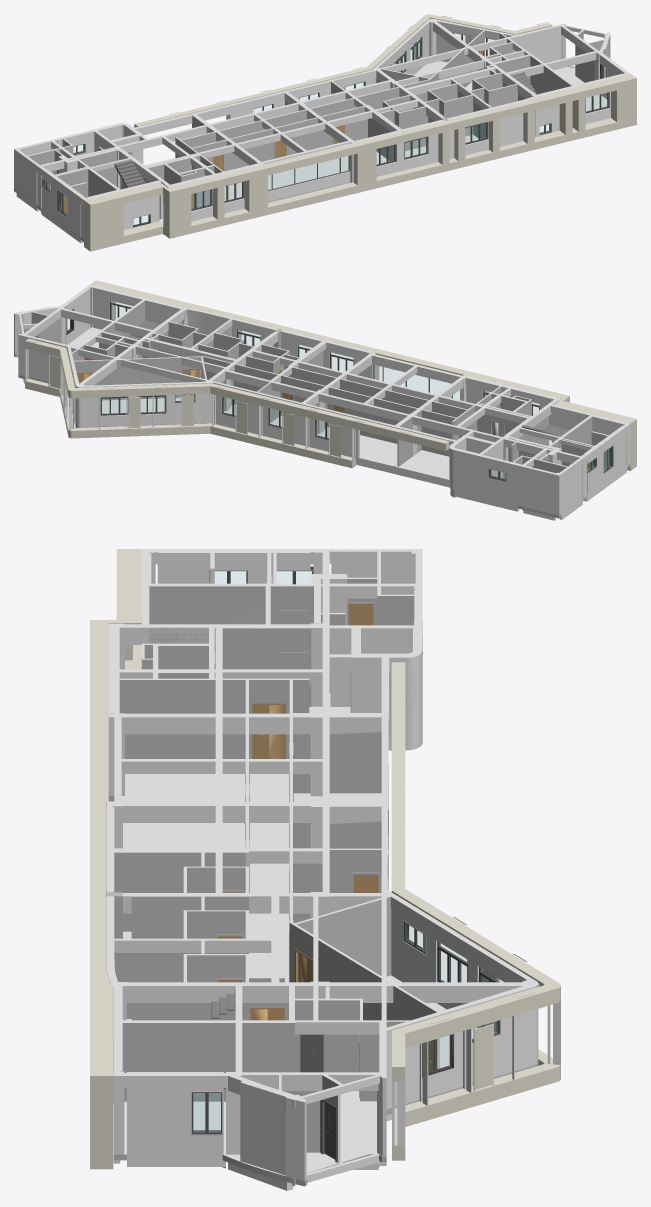
3 renders of one model, top to bottom at view 1: azimuth 30°, elevation 25°; view 2: azimuth 150°, elevation 25°; view 3: azimuth 270°, elevation 25°, orthographic. The views are drawn at different scales.
Parts seen in each view (by area): view 1: 矩形钢管_杆件_30x30x5__2275454__1; view 2: 矩形钢管_杆件_30x30x5__2275454__1; view 3: 矩形钢管_杆件_30x30x5__2275454__1.
Part boxes in pixels (x1,y1,x2,y2): 矩形钢管_杆件_30x30x5__2275454__1: (14,14,636,251); 矩形钢管_杆件_30x30x5__2275454__1: (14,280,636,520); 矩形钢管_杆件_30x30x5__2275454__1: (90,549,560,1190).
Size of the model in its own units: 48220 by 3991 by 17352.
